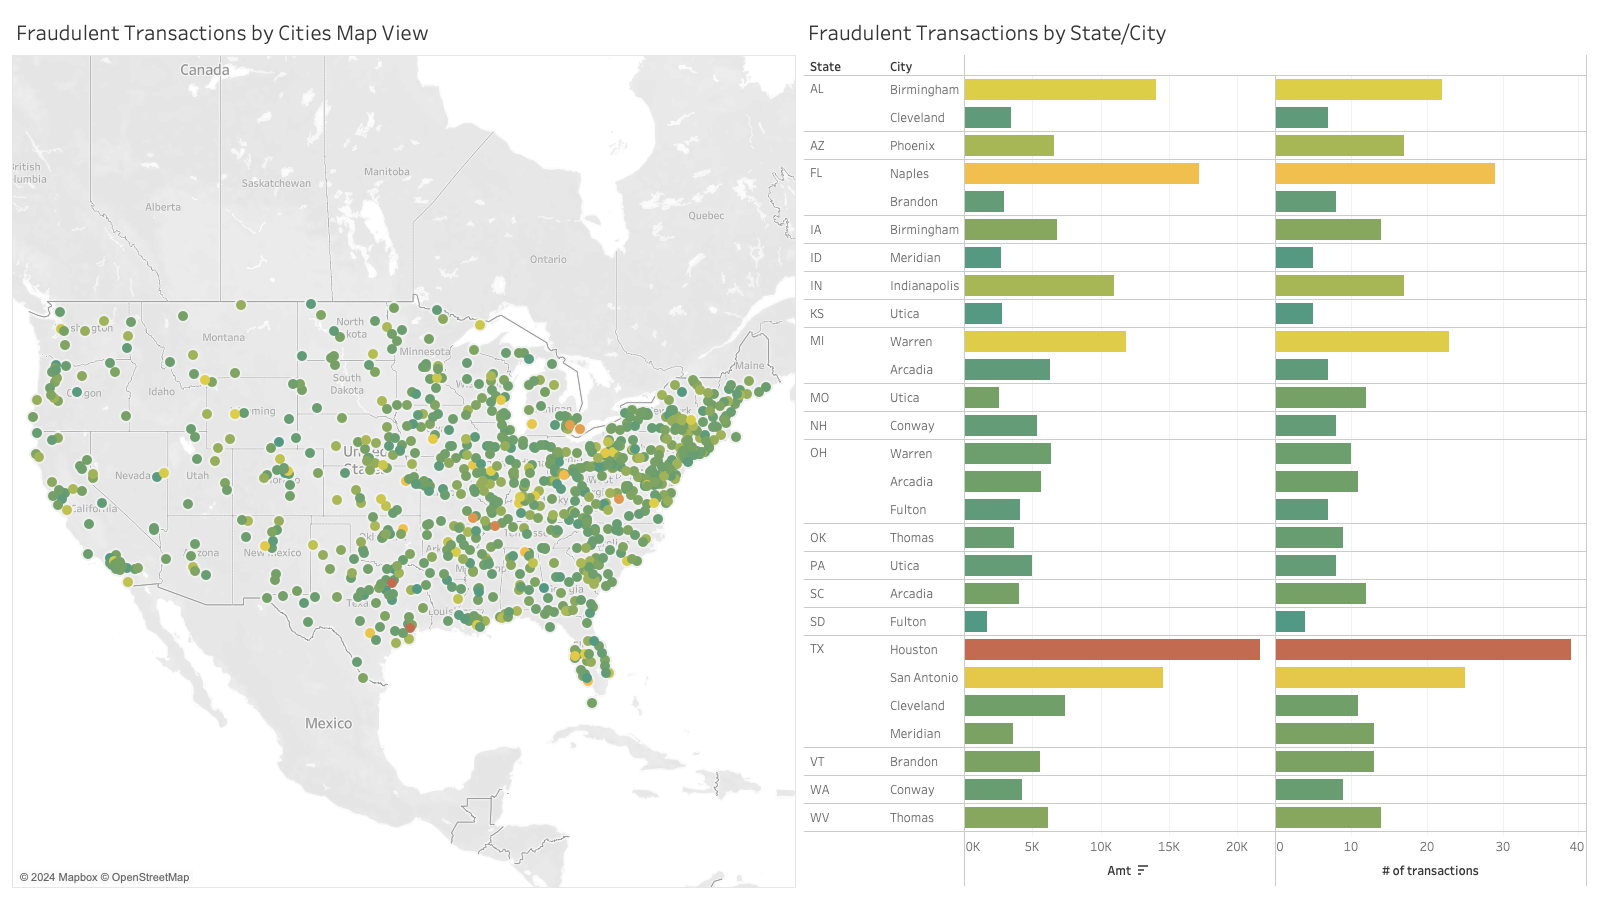

The dashboard page shown, as its layout file describes it:
{"tool":"tableau","page":{"name":"Map - Fraud transactions","canvas":[1600,900],"ordinal":6},"visuals":[{"type":"worksheet","title":"Map - Fraud Trans #","mark":"Multipolygon","box":[8,8,792,884]},{"type":"worksheet","title":"Map - Fraud amt","mark":"Automatic","box":[800,8,792,884]}]}

Visuals, with their boxes in screenshot pixels (x1, y1, x2, y2), scaled from the page's 1600x900 canvas onto the 1600x900 screenshot:
"Map - Fraud Trans #" worksheet (Multipolygon marks): <region>8, 8, 800, 892</region>
"Map - Fraud amt" worksheet: <region>800, 8, 1592, 892</region>
